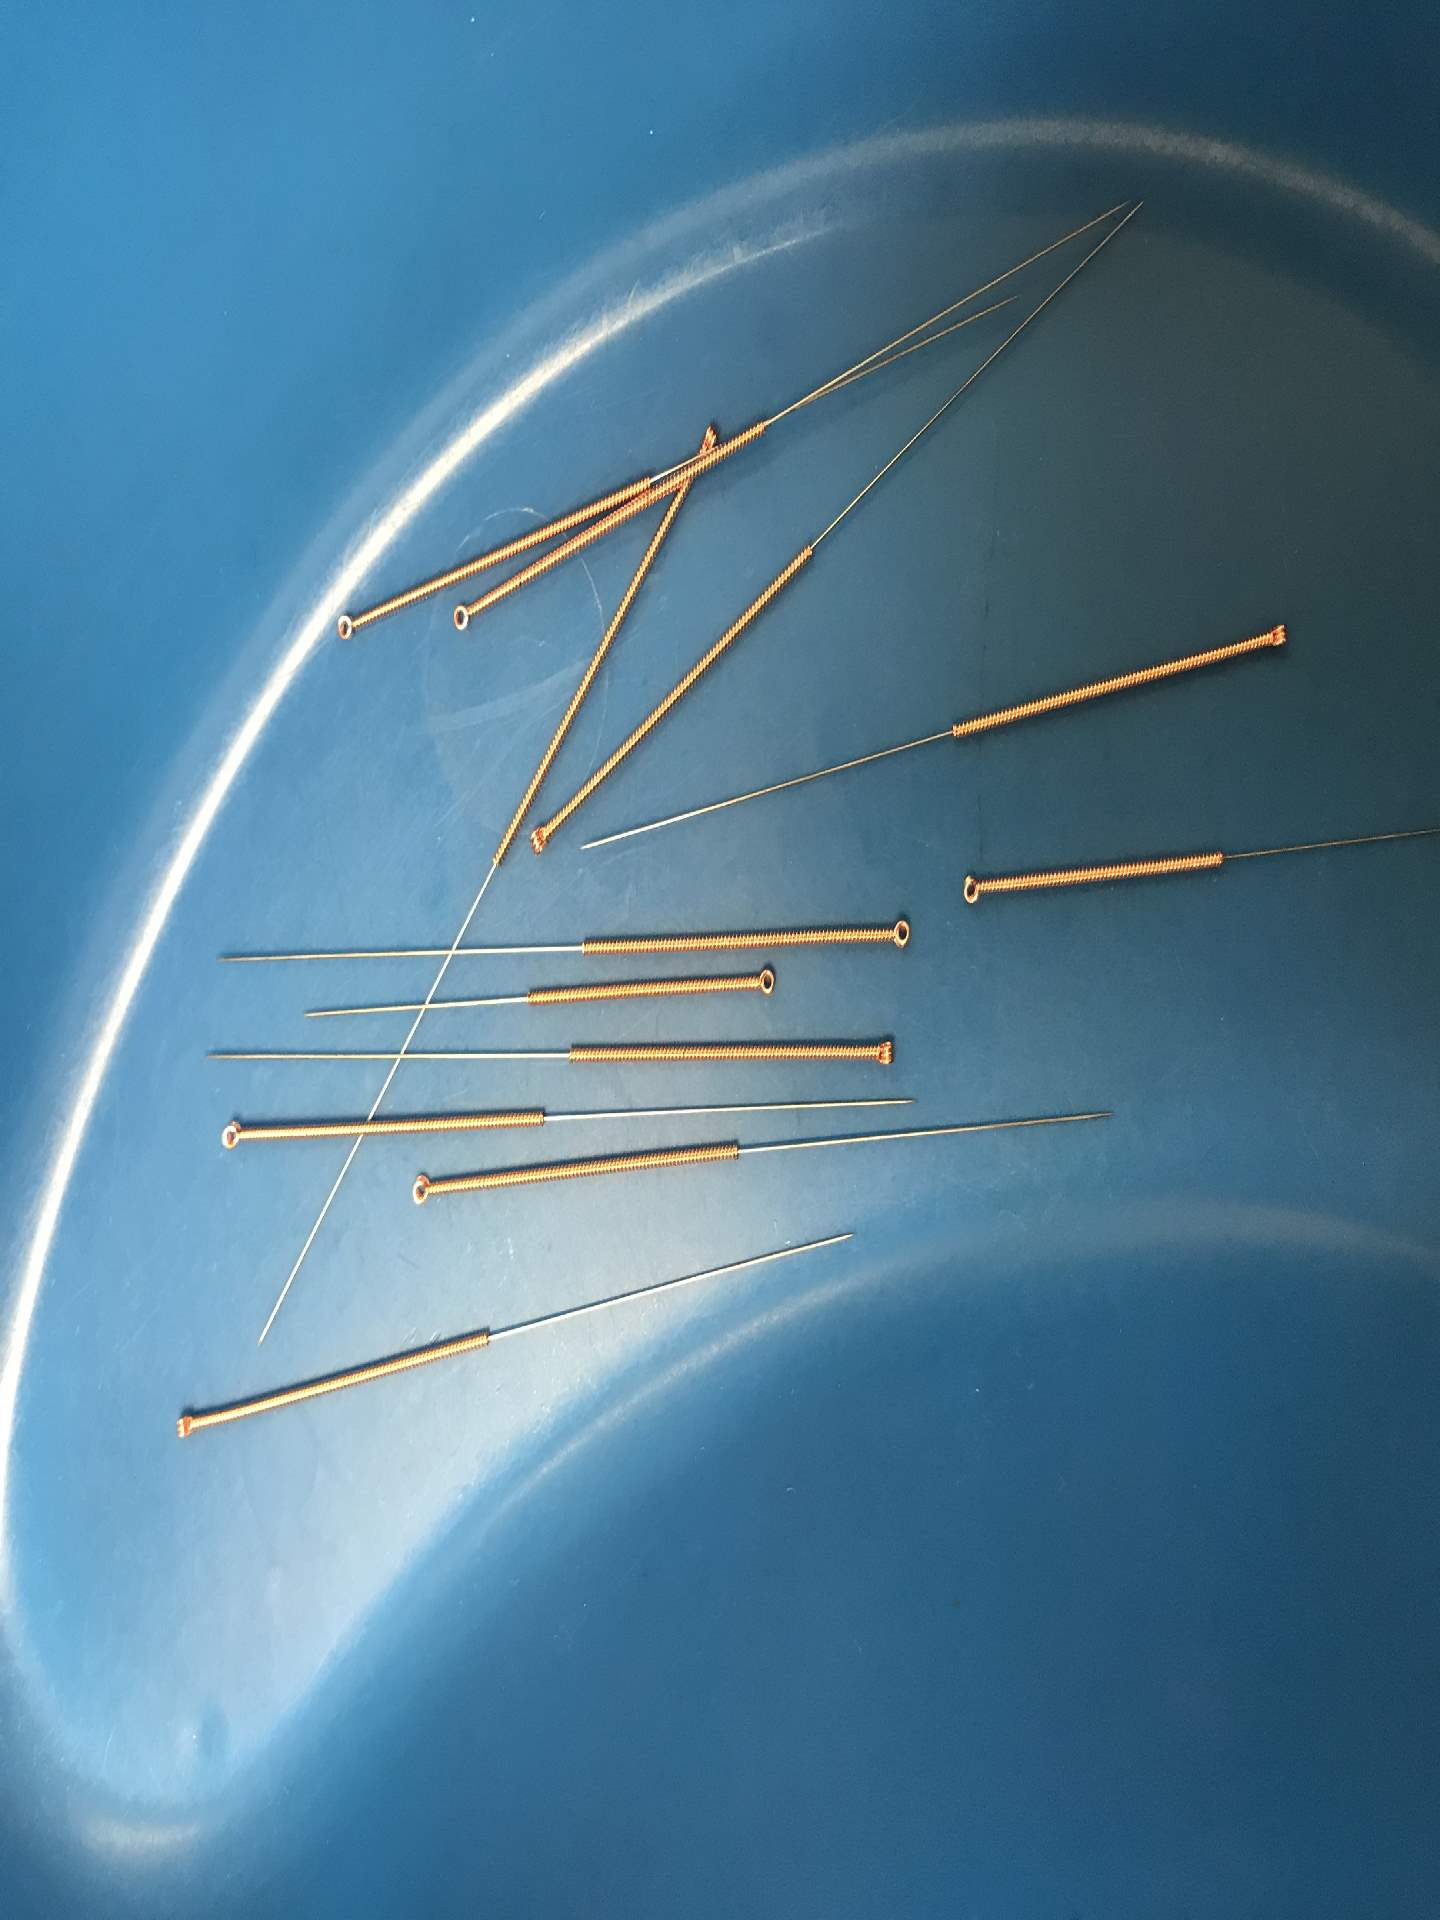needle: (945, 862, 998, 916), (873, 910, 923, 957), (398, 1166, 443, 1215), (740, 957, 784, 1008), (1246, 612, 1293, 659), (210, 1111, 251, 1163), (523, 809, 563, 859), (328, 602, 368, 650), (166, 1401, 204, 1451), (861, 1030, 903, 1073), (442, 594, 483, 639), (690, 417, 722, 454)
